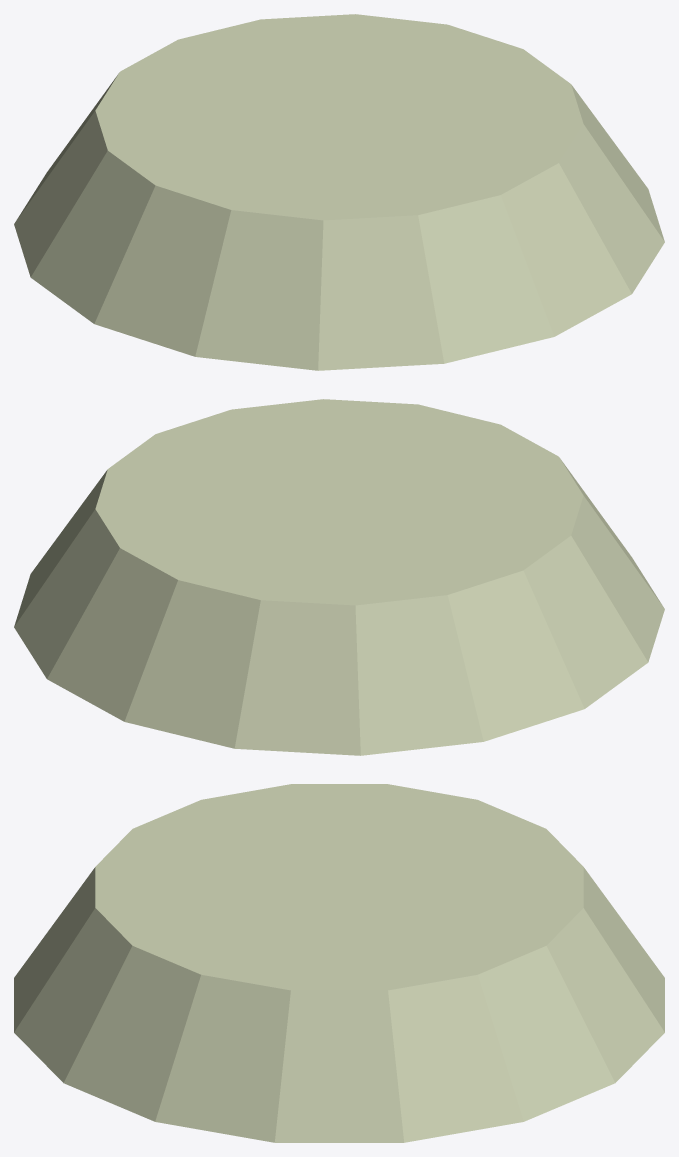
File: tantares_adapter_s1_s0p5_1_collider.obj
The picture shows the model from 3 angles, top to bottom: view 1: azimuth 30°, elevation 25°; view 2: azimuth 150°, elevation 25°; view 3: azimuth 270°, elevation 25°; orthographic projection.
Visible parts, largest first — view 1: coll; view 2: coll; view 3: coll.
Part boxes in pixels (x1,y1,x2,y2): coll: (14, 14, 664, 370); coll: (14, 399, 664, 755); coll: (14, 784, 664, 1142).
Bounding box in the file's own units: 1.25 × 0.25 × 1.25.
